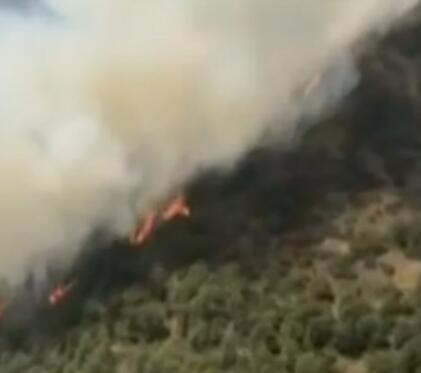fire: (45, 193, 192, 305)
yanwu: (1, 1, 420, 303)
